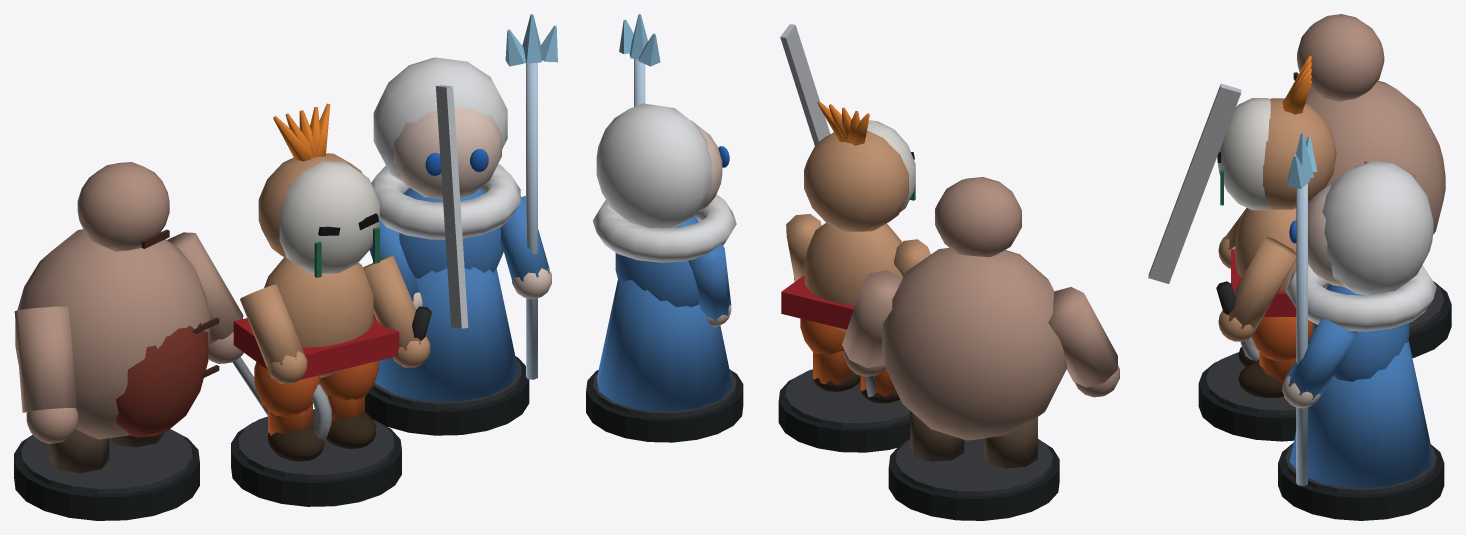
The picture shows the model from 3 angles, left to right: view 1: azimuth 30°, elevation 25°; view 2: azimuth 150°, elevation 25°; view 3: azimuth 270°, elevation 25°; orthographic projection. The views are drawn at different scales.
Parts seen in each view (by area): view 1: figs-dota; view 2: figs-dota; view 3: figs-dota.
Boxes of the visible parts, x1,y1,x2,y2 form: figs-dota: (14,14,557,520); figs-dota: (586,14,1119,520); figs-dota: (1148,14,1451,520).
Size of the model in its own units: 0.1655 by 0.116 by 0.0839.
